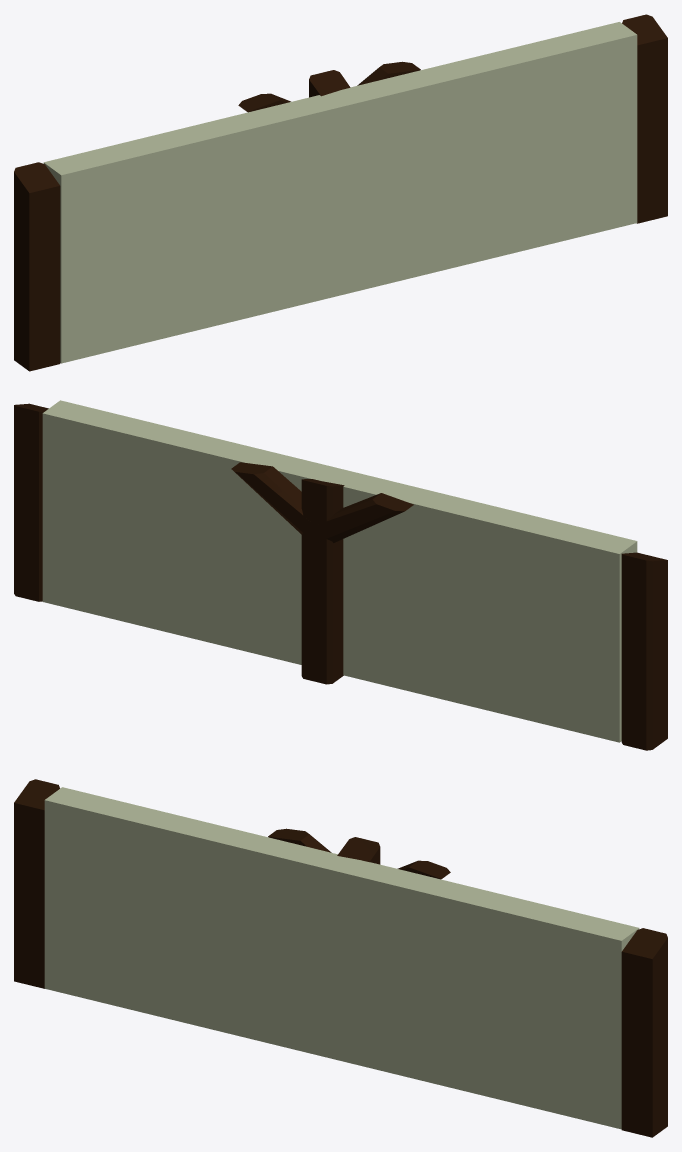
Rendered from House_HalfRoofPiece_FBX.fbx.
3 views of the same model, one above another, from view 1: azimuth 30°, elevation 25°; view 2: azimuth 150°, elevation 25°; view 3: azimuth 330°, elevation 25° (orthographic).
Parts seen in each view (by area): view 1: Roof Piece, Box149, Box176; view 2: Roof Piece, Box149, Box176; view 3: Roof Piece, Box176, Box149.
Boxes of the visible parts, left/top/right/bottom form: Roof Piece: left=14, top=14, right=667, bottom=371; Box149: left=357, top=61, right=420, bottom=85; Box176: left=238, top=93, right=290, bottom=112; Roof Piece: left=14, top=400, right=667, bottom=750; Box149: left=231, top=462, right=313, bottom=541; Box176: left=316, top=493, right=413, bottom=542; Roof Piece: left=14, top=779, right=667, bottom=1137; Box176: left=268, top=828, right=331, bottom=852; Box149: left=397, top=860, right=450, bottom=879.
Size of the model in its own units: 829 by 246 by 68.76.
